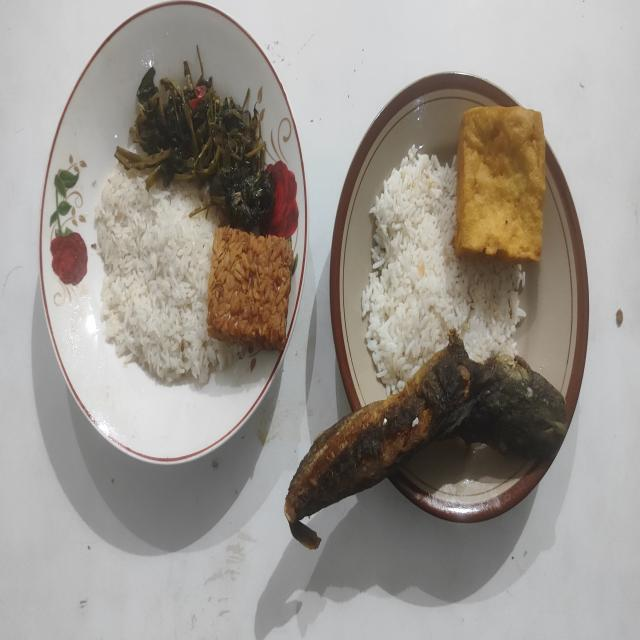nasi_putih: (362, 146, 526, 392), (96, 173, 242, 385)
tahu_goreng: (454, 107, 546, 261)
tempe_goreng: (206, 226, 294, 350)
tumis_kangkung: (116, 62, 276, 234)
